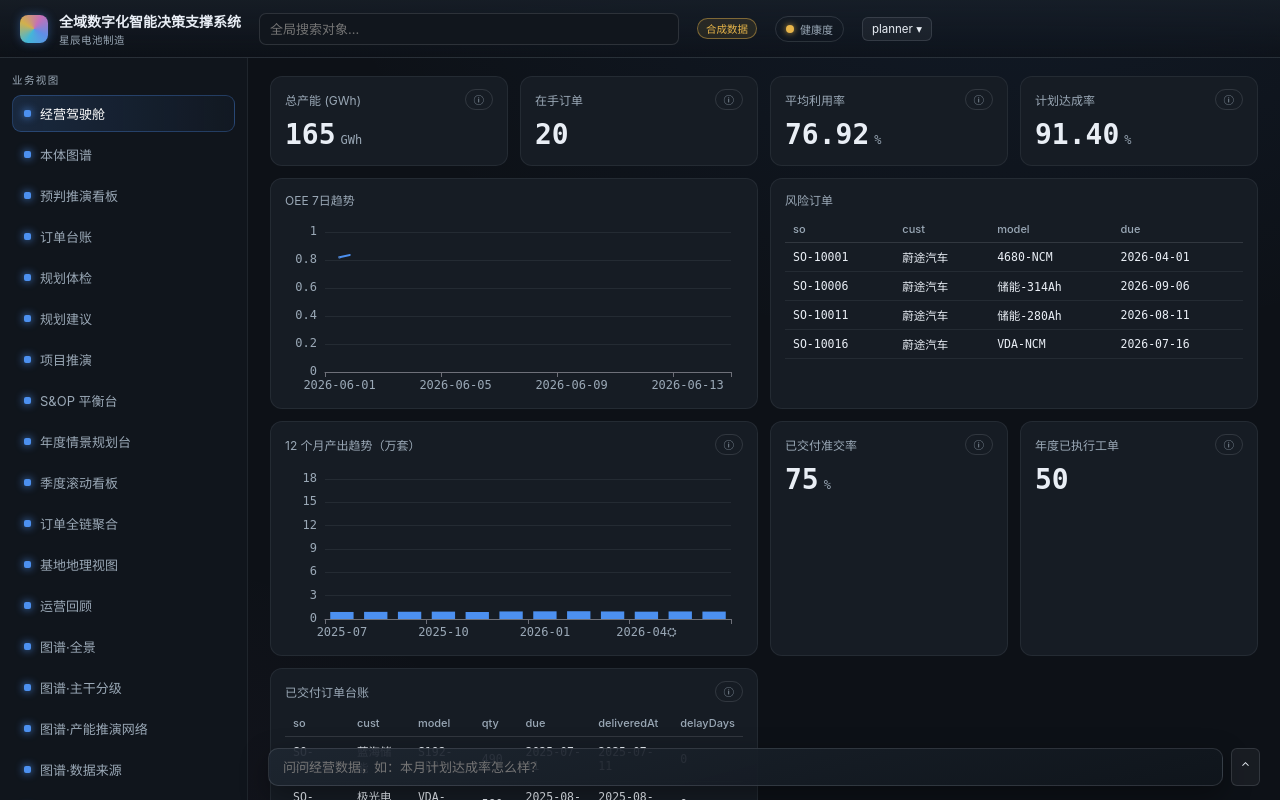
Test: F4 · 探索回答（AGENT_EXPLORATORY + unverifiedNumerics） › 琥珀徽章 + 虚线边框 + 警示条同时出现
This screenshot has width=1280, height=800.
Type "印尼基地爬坡还要多久" into the field named "查询输入" at (746, 767), box 268,748 -> 1223,786
Then press Enter
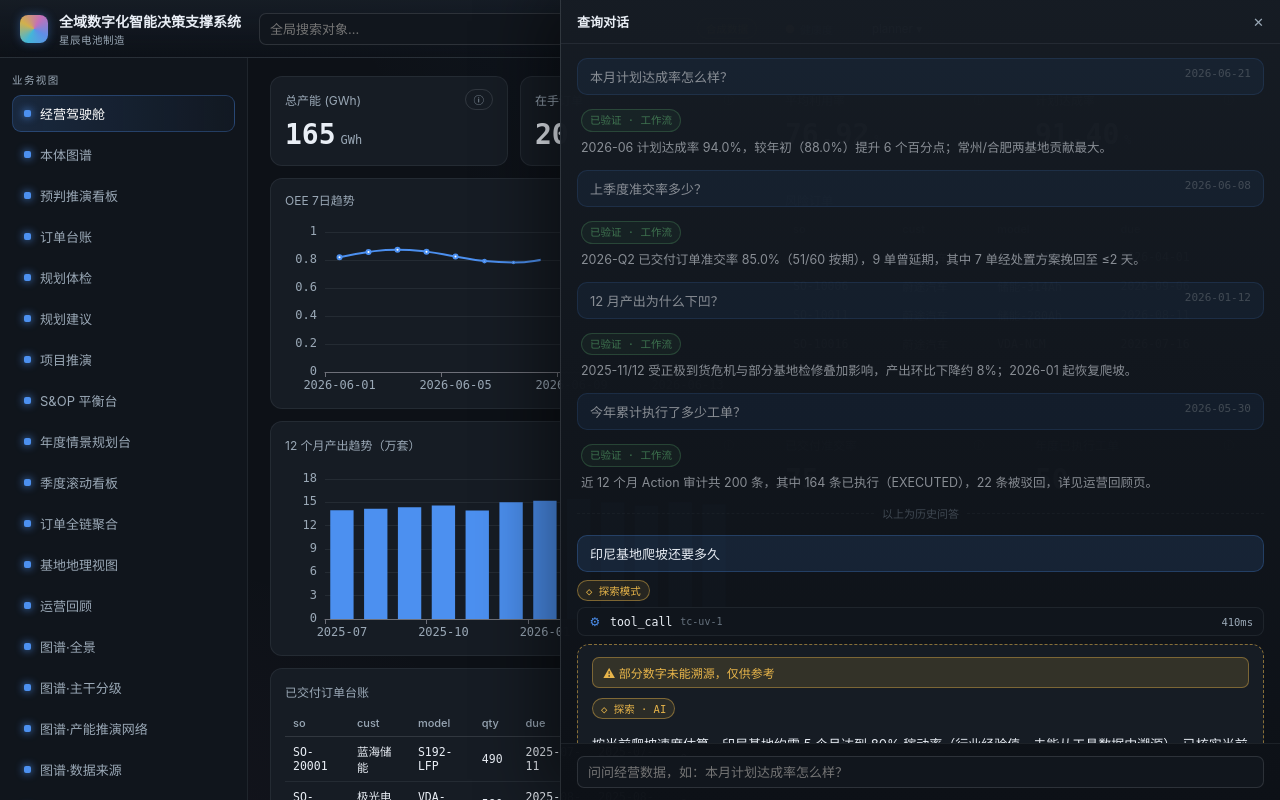
Expected: the text with test id "trust-badge" shows "探索 · AI", 614,703 -> 666,715
Expected: the text with test id "unverified-strip" shows "部分数字未能溯源，仅供参考", 619,666 -> 775,681
